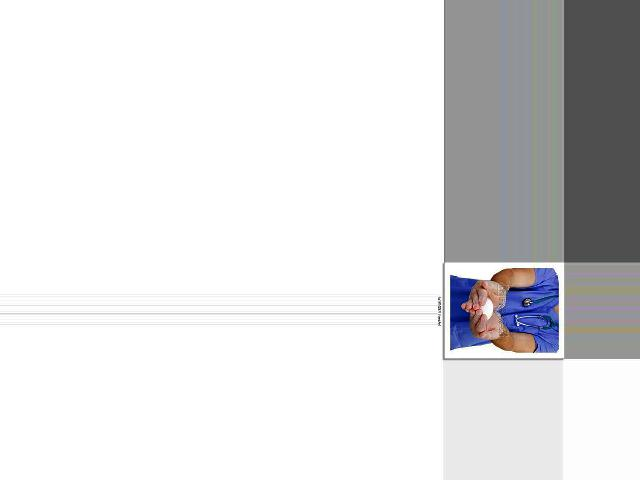egg: (479, 298, 493, 320)
